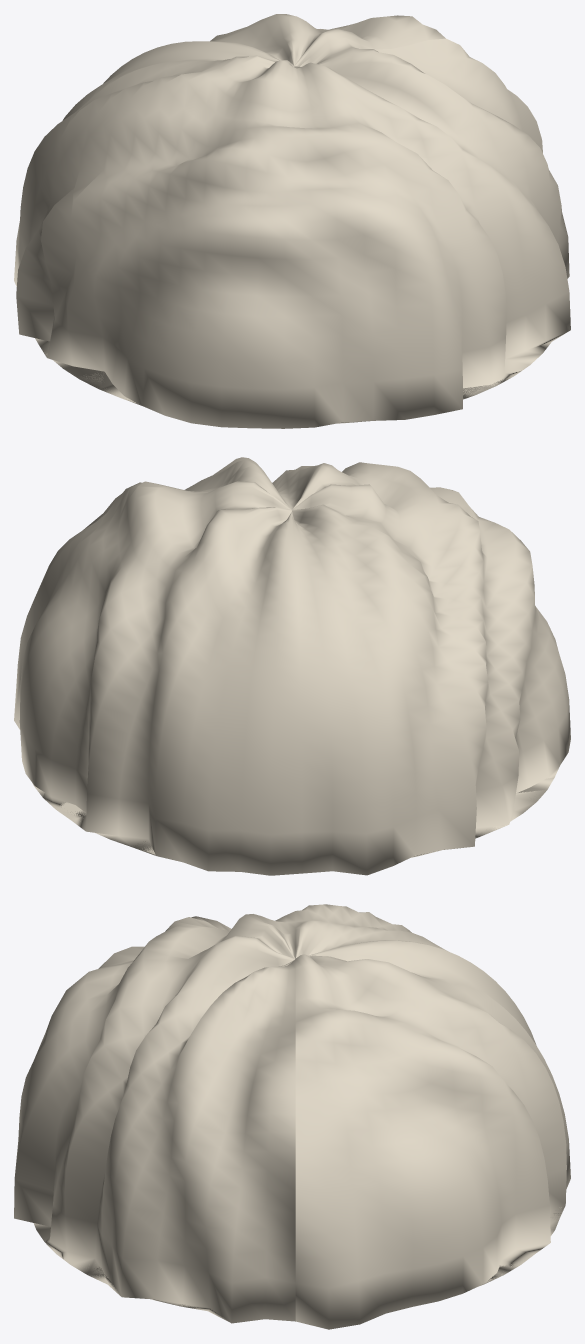
File: coral_brain.glb
3 renders of one model, top to bottom at view 1: azimuth 30°, elevation 25°; view 2: azimuth 150°, elevation 25°; view 3: azimuth 270°, elevation 25°, orthographic.
Parts seen in each view (by area): view 1: coral_brain; view 2: coral_brain; view 3: coral_brain.
Boxes of the visible parts, left/top/right/bottom form: coral_brain: left=14, top=14, right=570, bottom=428; coral_brain: left=14, top=457, right=570, bottom=875; coral_brain: left=14, top=904, right=570, bottom=1329.
Bounding box in the file's own units: 1.16 × 0.6076 × 1.15.
